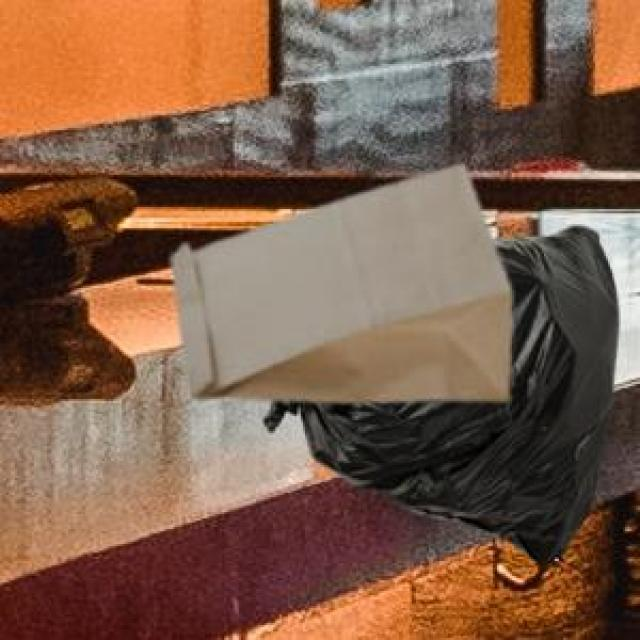miscellaneous trash: (260, 222, 614, 561)
paper: (169, 162, 508, 397)
